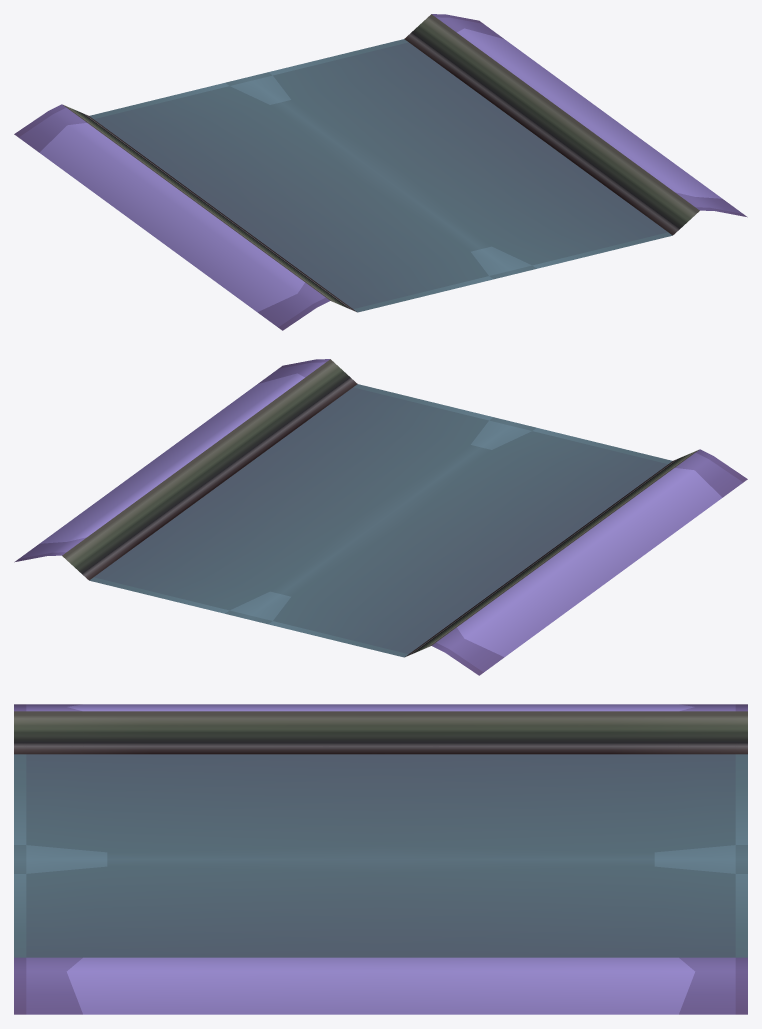
Rendered from Road.fbx.
3 renders of one model, top to bottom at view 1: azimuth 30°, elevation 25°; view 2: azimuth 150°, elevation 25°; view 3: azimuth 270°, elevation 25°, orthographic. The views are drawn at different scales.
Parts seen in each view (by area): view 1: Road; view 2: Road; view 3: Road.
Part boxes in pixels (x1,y1,x2,y2): Road: (14, 14, 747, 330); Road: (14, 359, 747, 675); Road: (14, 704, 747, 1014).
Size of the model in its own units: 100 by 3.75 by 100.
